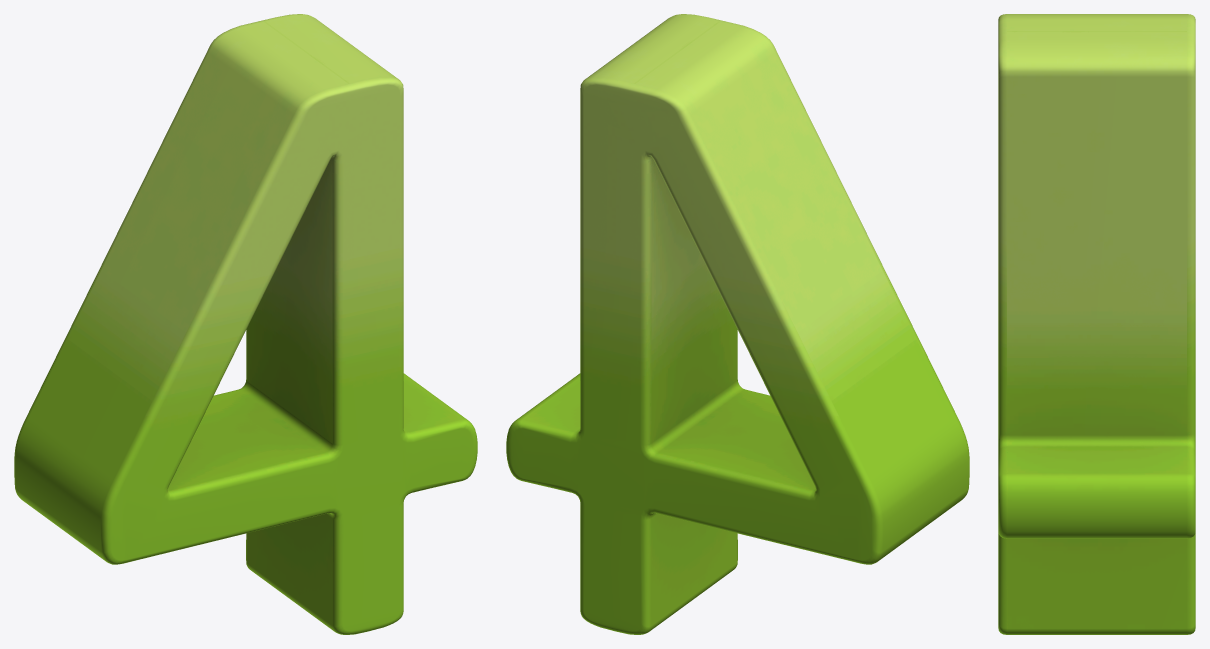
3 views of the same model, side by side, from view 1: azimuth 30°, elevation 25°; view 2: azimuth 150°, elevation 25°; view 3: azimuth 270°, elevation 25° (orthographic). The views are drawn at different scales.
Visible parts, largest first — view 1: node_id5; view 2: node_id5; view 3: node_id5.
Part boxes in pixels (x1=…): node_id5: x1=14, y1=14, x2=477, y2=634; node_id5: x1=506, y1=14, x2=969, y2=634; node_id5: x1=998, y1=14, x2=1195, y2=634.
Size of the model in its own units: 0.3655 by 0.512 by 0.1569.
Materials: 1 (1 with a texture image).
